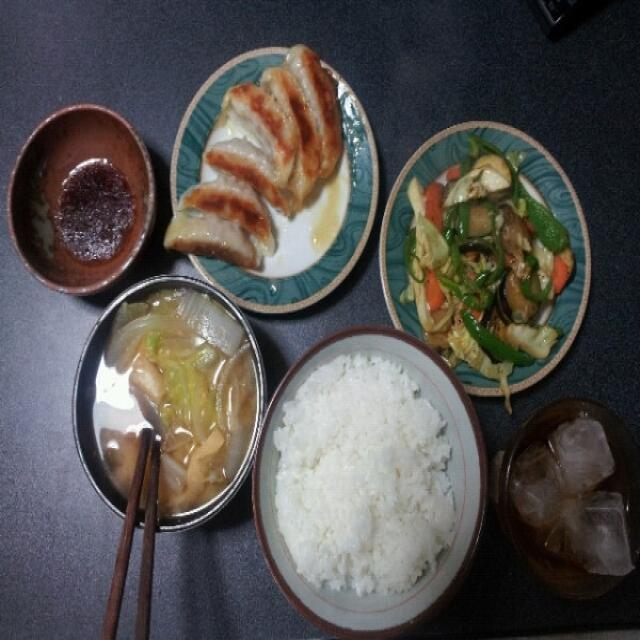Rice: (274, 351, 456, 592)
